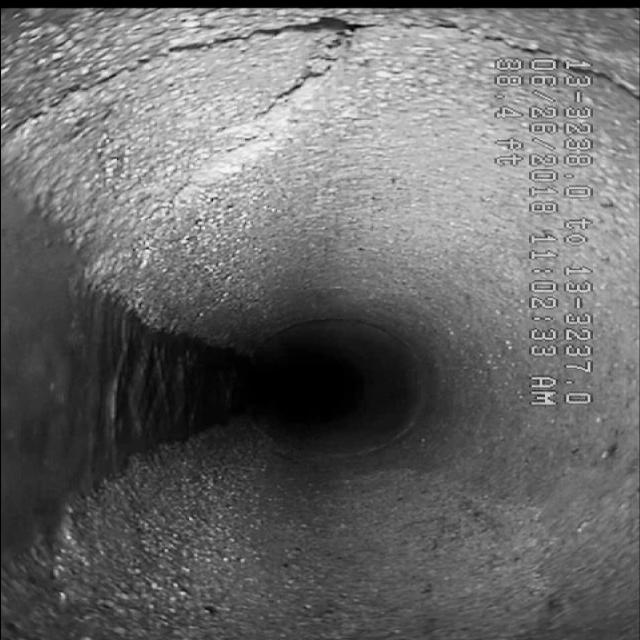Crack: (110, 12, 426, 198)
